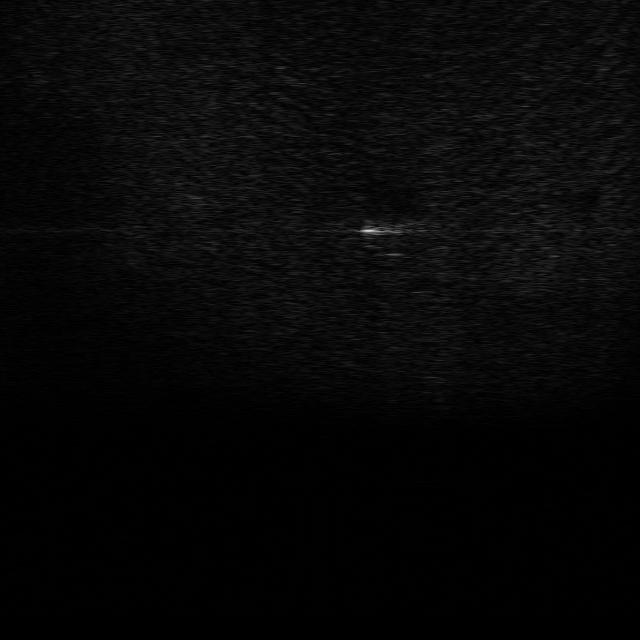plane: (355, 212, 427, 248)
